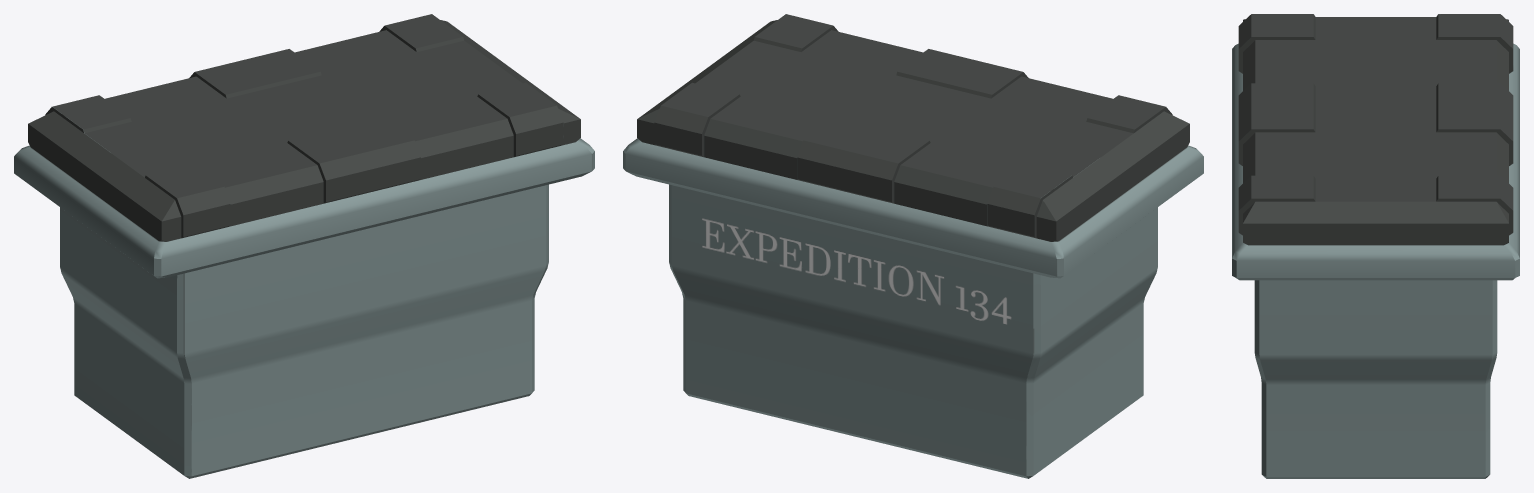
Rendered from SupBox.fbx.
3 renders of one model, left to right at view 1: azimuth 30°, elevation 25°; view 2: azimuth 150°, elevation 25°; view 3: azimuth 270°, elevation 25°, orthographic.
Visible parts, largest first — view 1: Supbox; view 2: Supbox; view 3: Supbox.
Part boxes in pixels (x1,y1,x2,y2): Supbox: [14, 14, 594, 478]; Supbox: [623, 14, 1203, 478]; Supbox: [1232, 14, 1519, 478].
Bounding box in the file's own units: 2.09 × 1.32 × 1.19.
